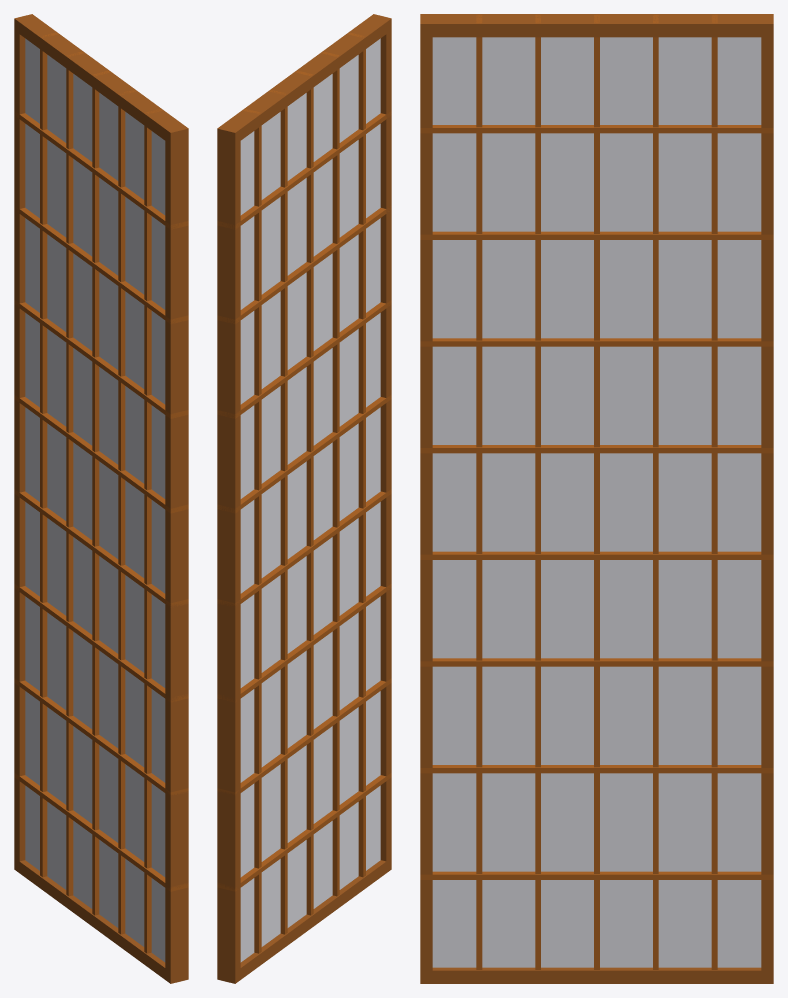
The model's file is Inside Wall.fbx.
3 views of the same model, side by side, from view 1: azimuth 30°, elevation 25°; view 2: azimuth 150°, elevation 25°; view 3: azimuth 270°, elevation 25° (orthographic). The views are drawn at different scales.
Parts seen in each view (by area): view 1: Inside_Wall; view 2: Inside_Wall; view 3: Inside_Wall.
Part boxes in pixels (bbox=[...]): Inside_Wall: bbox=[14, 14, 188, 983]; Inside_Wall: bbox=[217, 14, 391, 983]; Inside_Wall: bbox=[420, 14, 773, 983].
Size of the model in its own units: 5.11 by 230 by 76.6.
